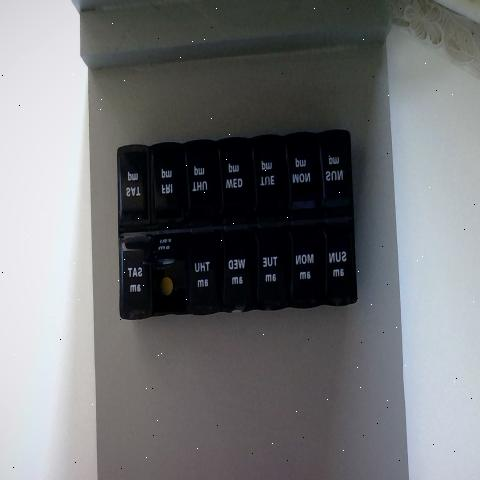FRI-pm: (153, 146, 184, 226)
MON-am: (289, 227, 324, 308)
MON-pm: (284, 134, 320, 218)
Open: (154, 240, 191, 313)
Pill: (162, 271, 177, 303)
PillBox: (110, 113, 371, 346)
SAT-am: (122, 235, 156, 316)
SAT-pm: (118, 145, 152, 228)
SUN-am: (325, 225, 357, 303)
SUN-pm: (319, 132, 352, 218)
THU-am: (190, 235, 223, 317)
THU-pm: (183, 144, 217, 230)
TUE-am: (257, 228, 288, 314)
TUE-pm: (251, 138, 283, 218)
WED-am: (224, 231, 256, 313)
WED-pm: (216, 145, 252, 223)
